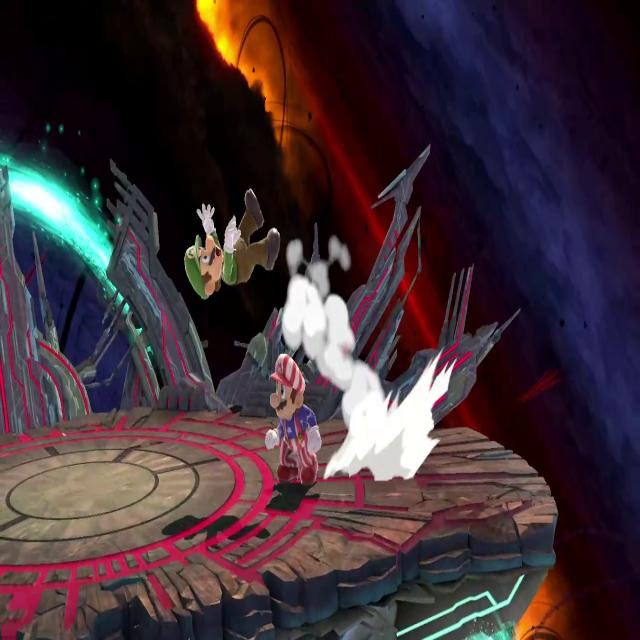Mario: (178, 178, 282, 300)
Mario-jump: (264, 348, 323, 491)
